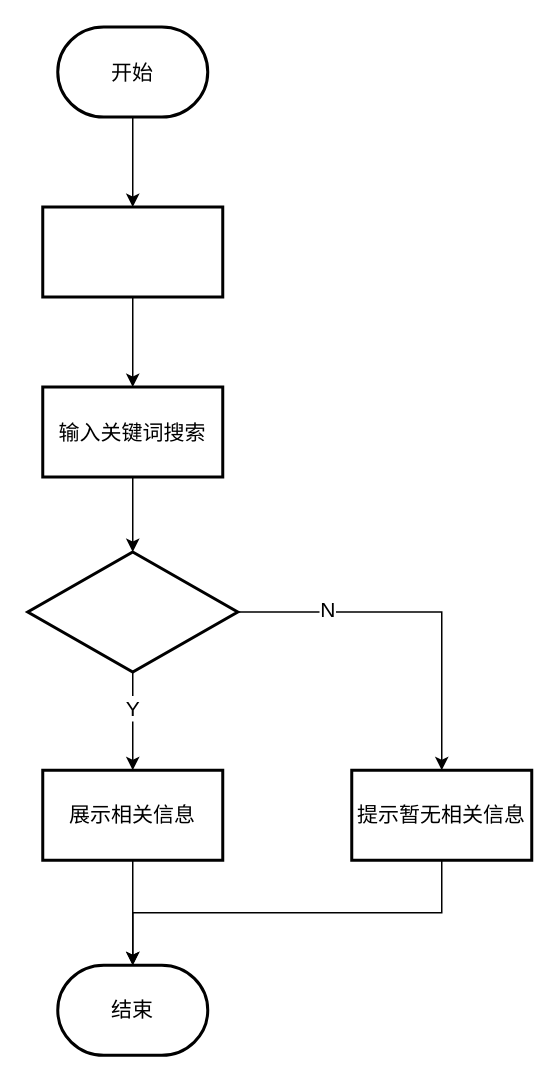
This 558x1083 diagram has some shape labels left out. The shapes that lost their labels are listed below. From the top down, each one's centre as x and y in pixels, then its label:
At pixel 132 251: "进入系统主页".
At pixel 132 611: "是否找到相关信息".
